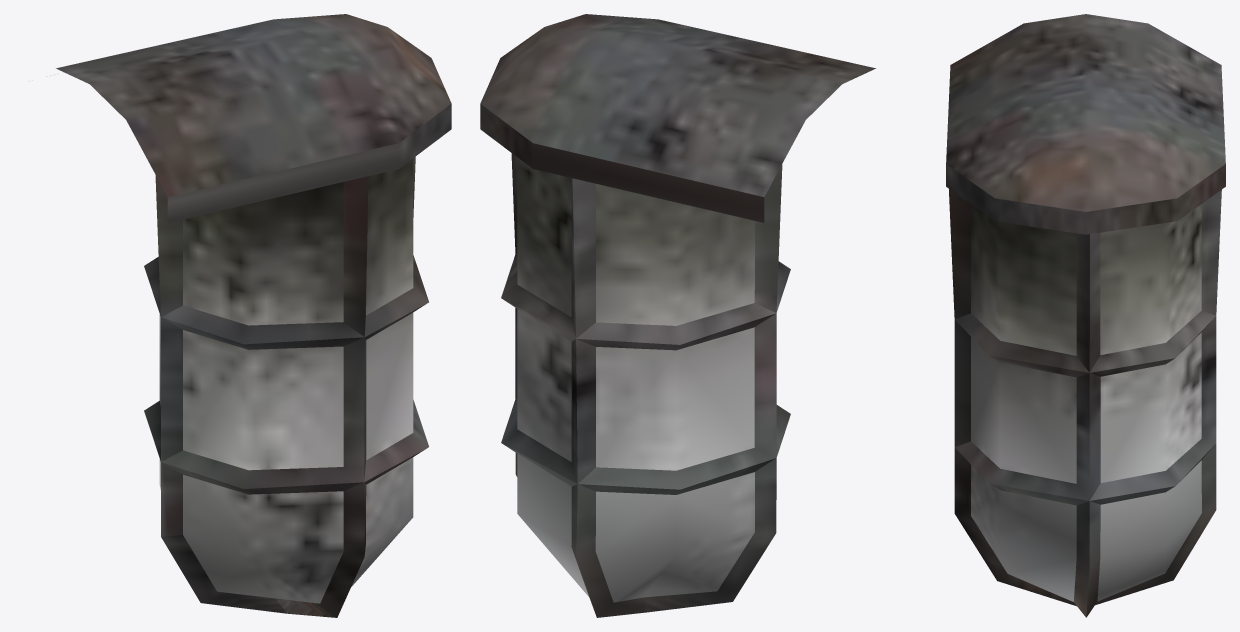
Rendered from light_cagelight02_off.glb.
The picture shows the model from 3 angles, left to right: view 1: azimuth 30°, elevation 25°; view 2: azimuth 150°, elevation 25°; view 3: azimuth 270°, elevation 25°; orthographic projection. The views are drawn at different scales.
Parts seen in each view (by area): view 1: 0_cagebulb01; view 2: 0_cagebulb01; view 3: 0_cagebulb01.
Part boxes in pixels (x1,y1,x2,y2): 0_cagebulb01: (56,14,451,617); 0_cagebulb01: (480,14,875,617); 0_cagebulb01: (946,14,1225,617).
Bounding box in the file's own units: 0.1836 × 0.296 × 0.1472.
Materials: 1 (1 with a texture image).
